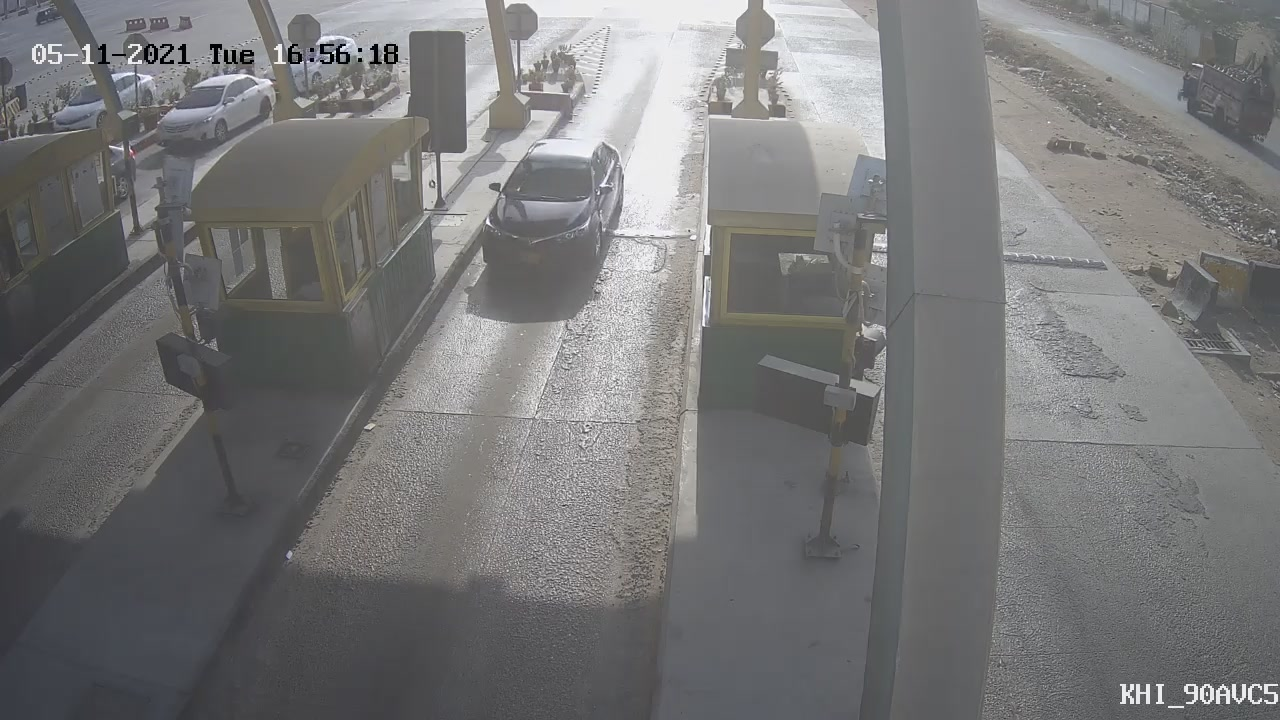F1: (457, 120, 642, 307)
